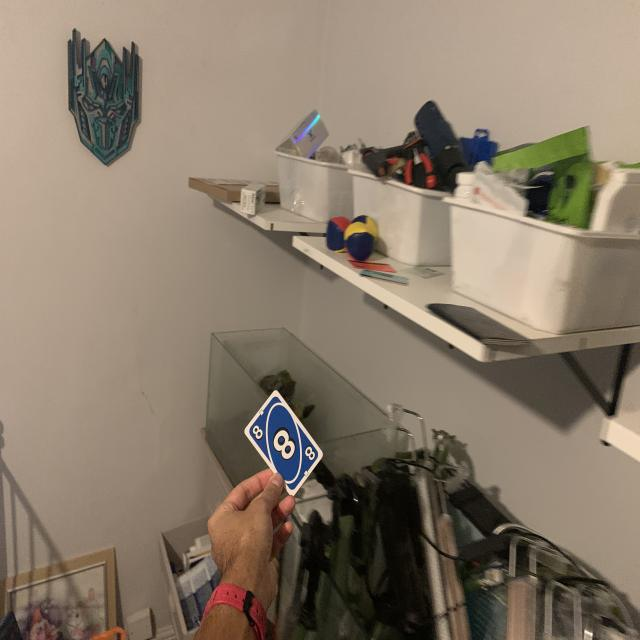lblue-8: (251, 424, 265, 442)
